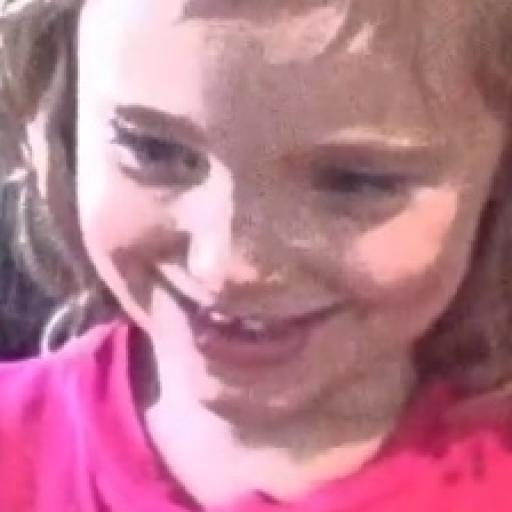Autism: (93, 0, 511, 381)
